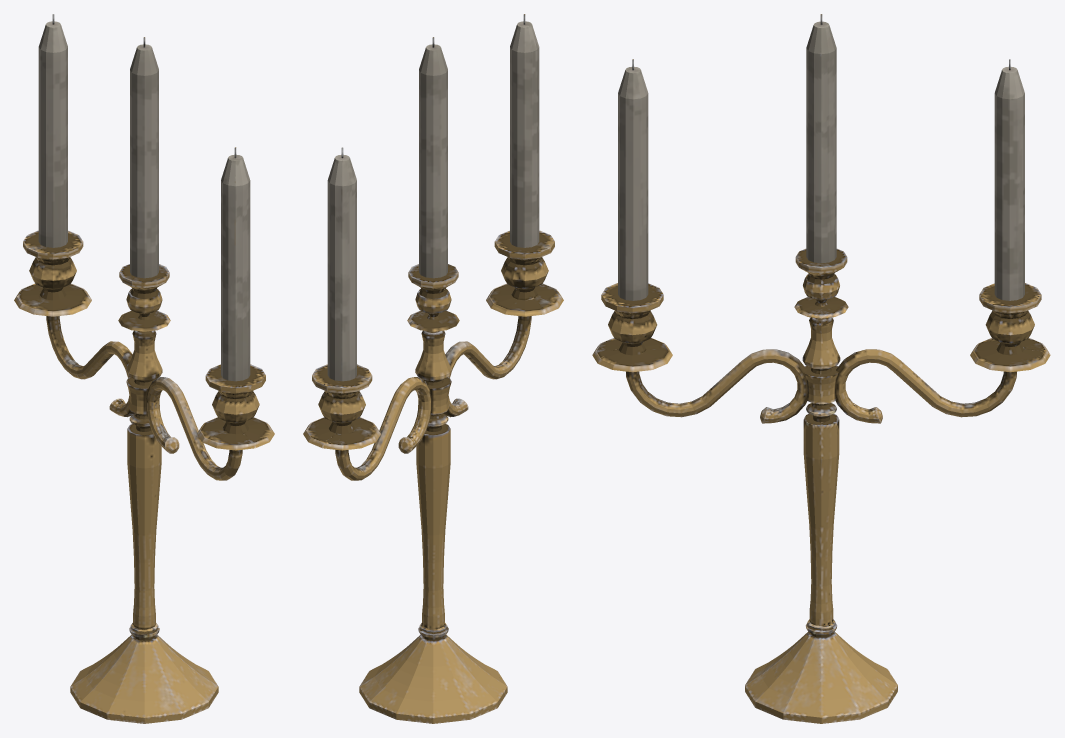
The model's file is Candelabra.fbx.
3 views of the same model, side by side, from view 1: azimuth 30°, elevation 25°; view 2: azimuth 150°, elevation 25°; view 3: azimuth 270°, elevation 25° (orthographic). The views are drawn at different scales.
Visible parts, largest first — view 1: Candelabra; view 2: Candelabra; view 3: Candelabra.
Part boxes in pixels (bbox=[...]): Candelabra: bbox=[14, 14, 274, 723]; Candelabra: bbox=[303, 14, 563, 723]; Candelabra: bbox=[592, 14, 1050, 723].
Bounding box in the file's own units: 58.35 × 285 × 175.
1 material, 1 textured.
